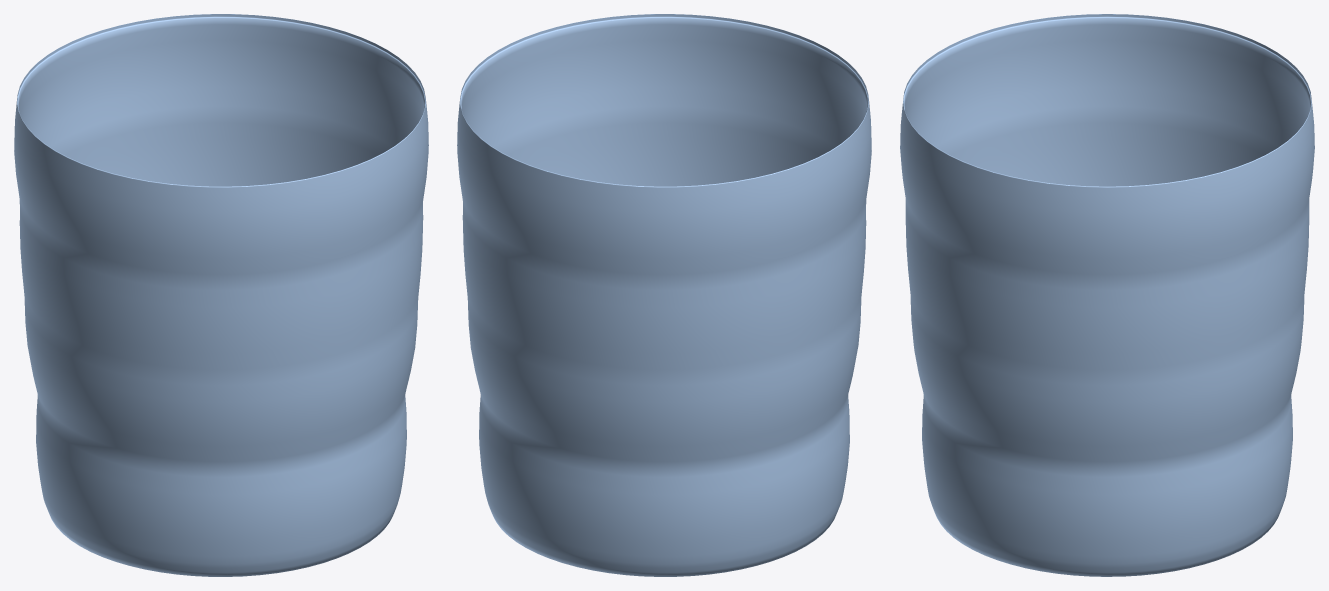
Rendered from blue_glass.fbx.
The picture shows the model from 3 angles, left to right: view 1: azimuth 30°, elevation 25°; view 2: azimuth 150°, elevation 25°; view 3: azimuth 270°, elevation 25°; orthographic projection.
Parts seen in each view (by area): view 1: Cylinder.001; view 2: Cylinder.001; view 3: Cylinder.001.
Boxes of the visible parts, bbox=[...] form: Cylinder.001: bbox=[14, 14, 428, 576]; Cylinder.001: bbox=[457, 14, 871, 576]; Cylinder.001: bbox=[900, 14, 1314, 576].
Size of the model in its own units: 239 by 258 by 239.
